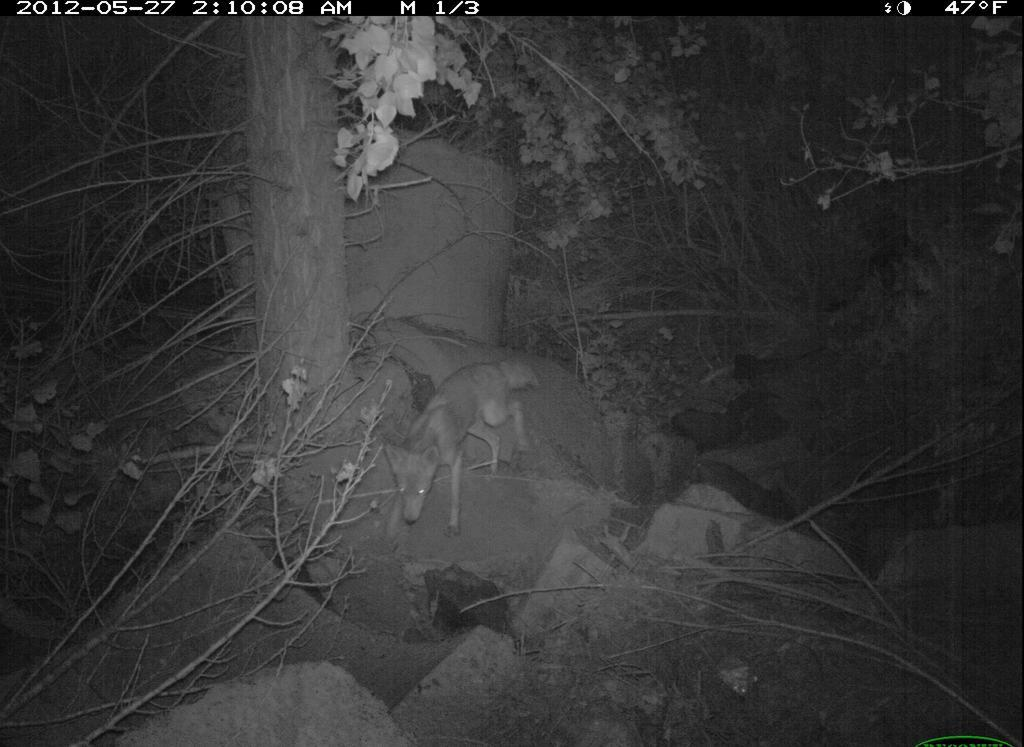coyote: (376, 346, 548, 555)
